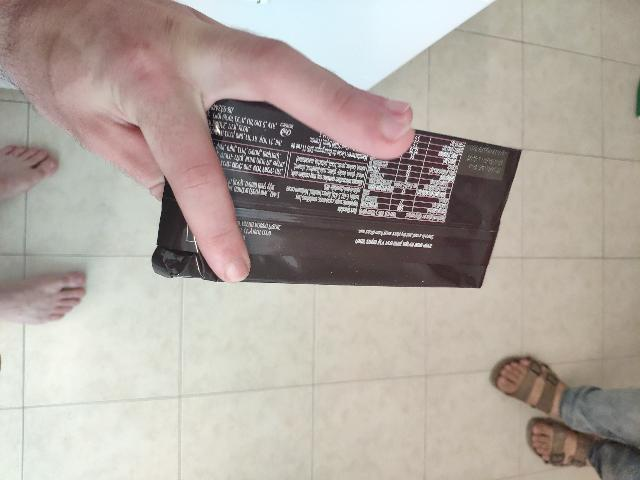chocolate: (227, 96, 456, 480)
